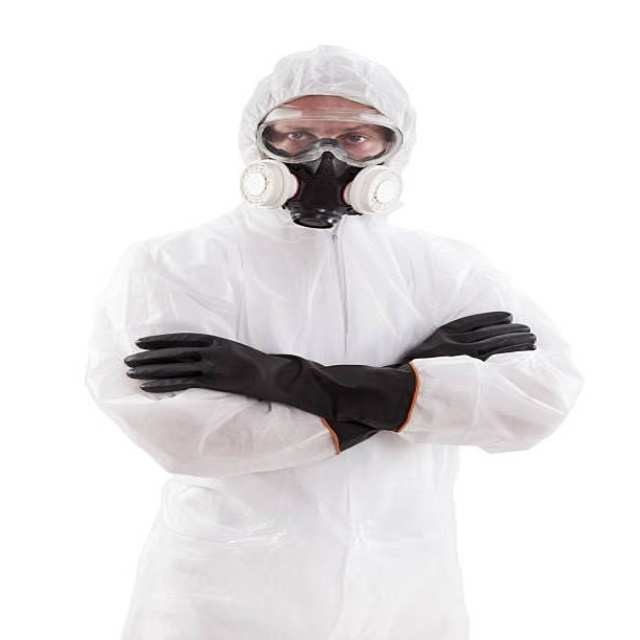Gafas: (256, 114, 399, 167)
Guantes: (127, 327, 413, 446), (396, 310, 534, 364)
Mascara: (277, 154, 371, 230)
